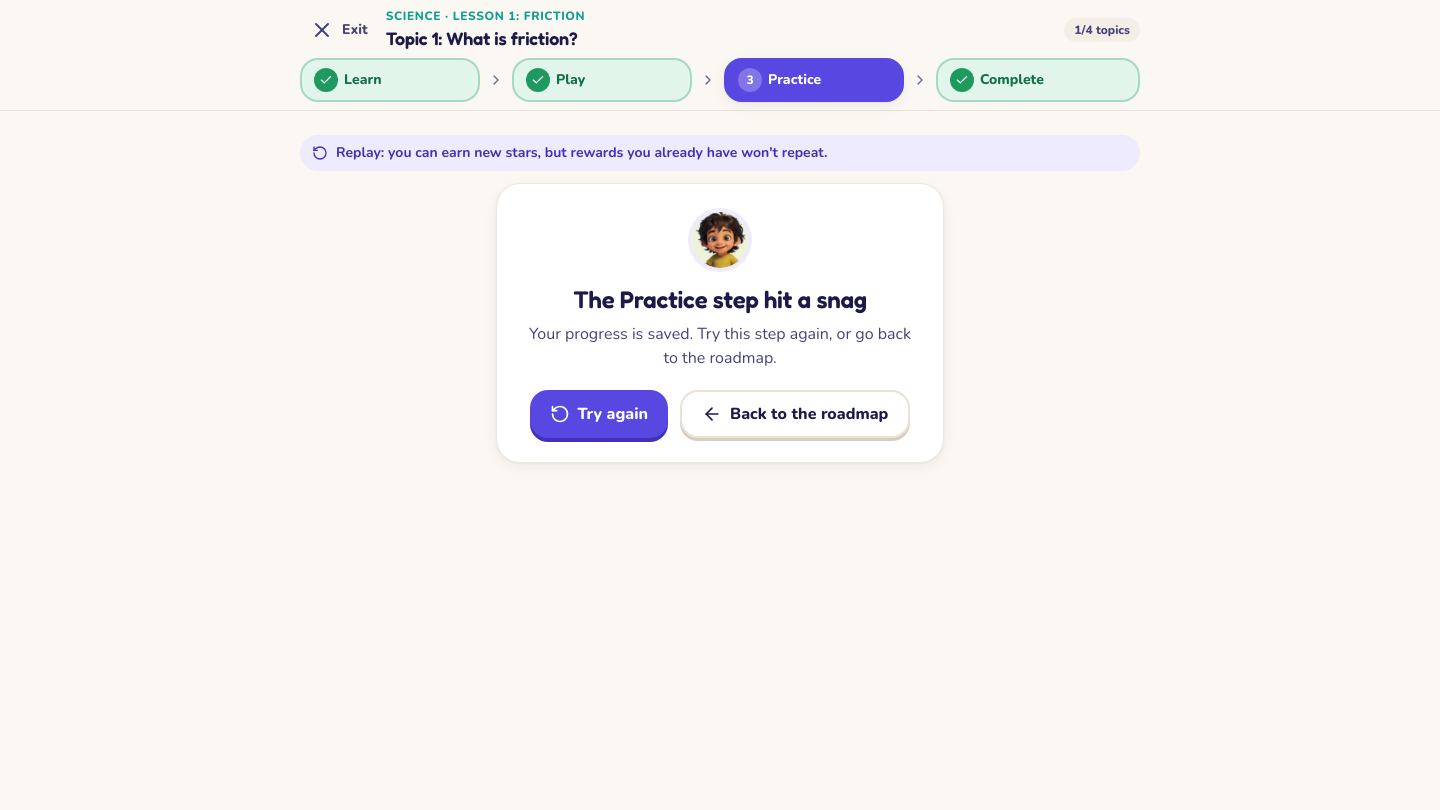
a topic step that breaks › opens the step again with Try again once it works
Click the button "Try again" at (599, 414), box [530,390,668,438]
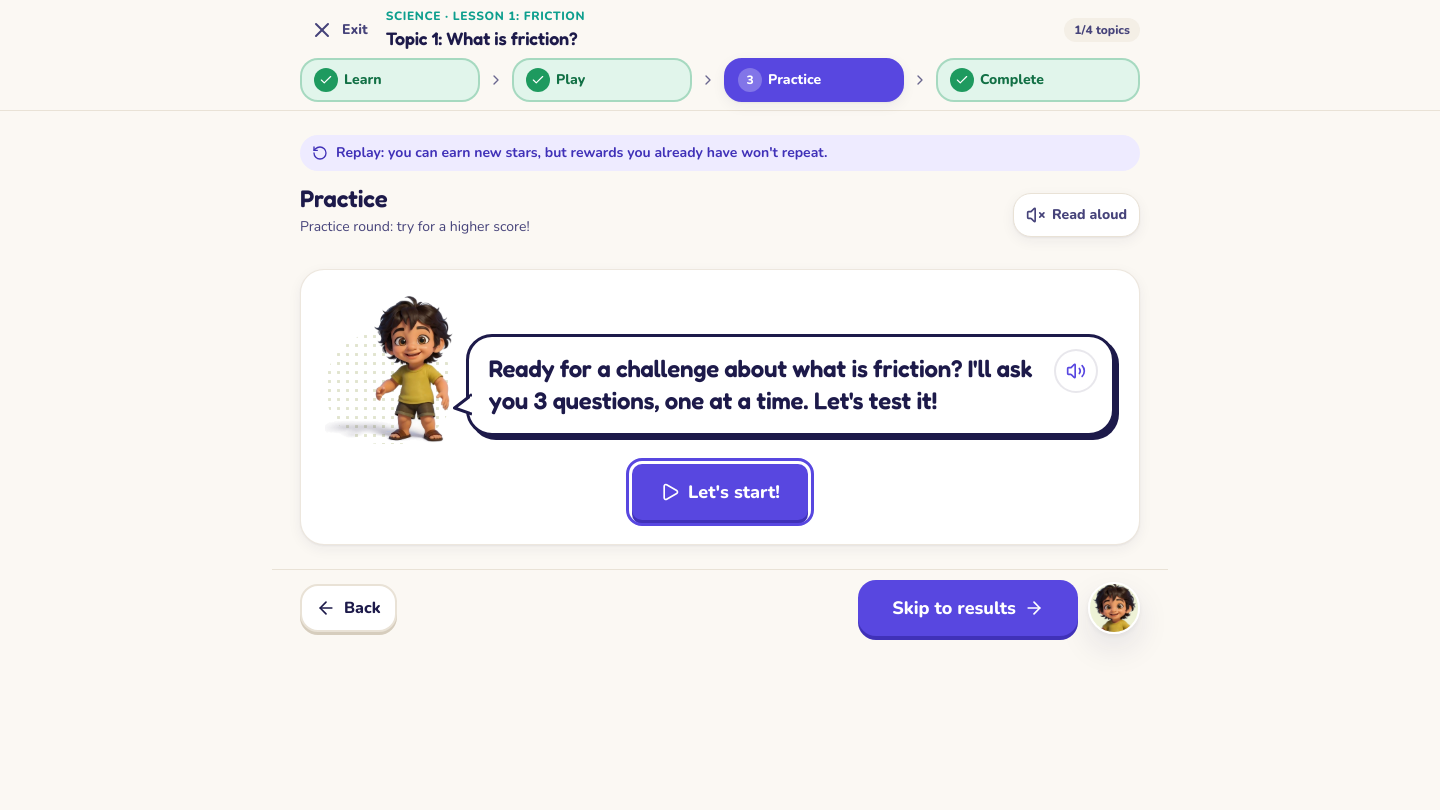
Check: the button "Let's start!" is shown, box [632,464,808,520]
